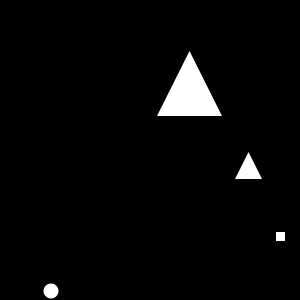circle: (276, 232, 285, 241)
rectangle: (44, 284, 58, 298)
triangle: (157, 51, 222, 116), (235, 152, 262, 179)
